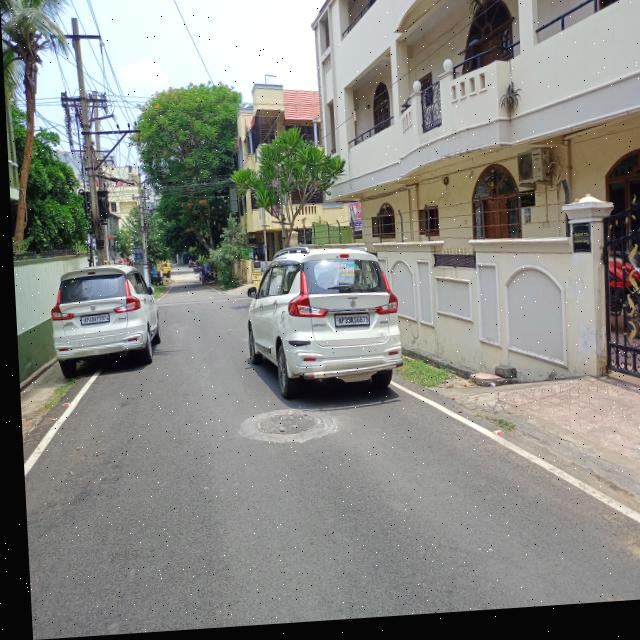car: (231, 244, 411, 411), (40, 262, 162, 381)
